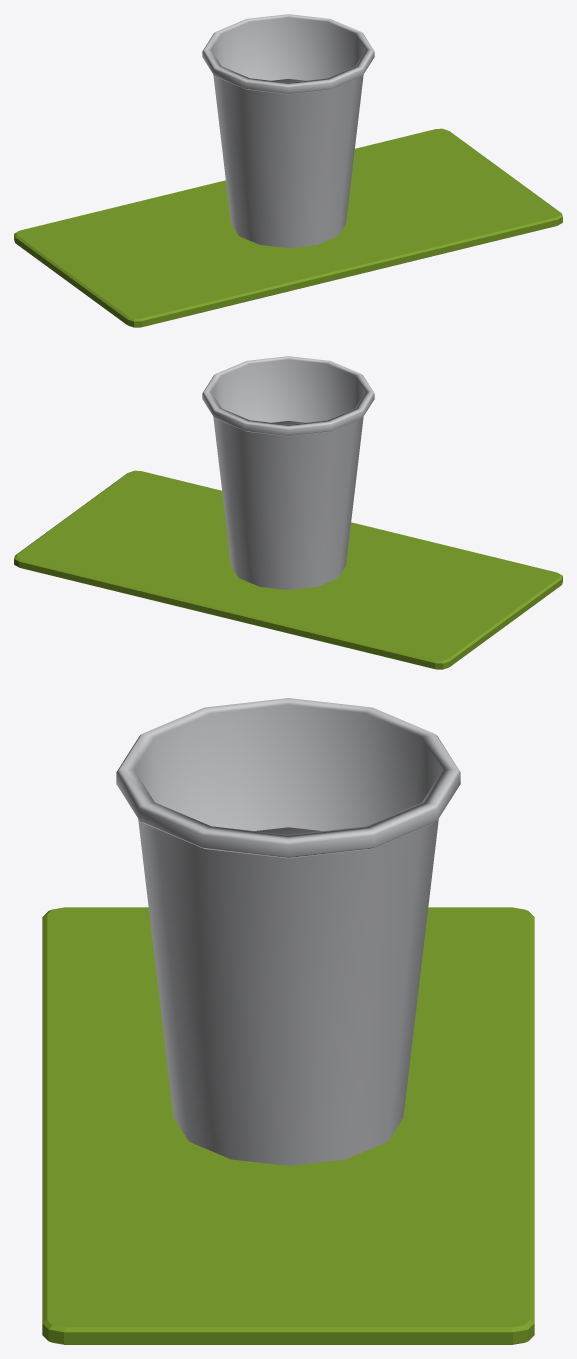
File: SM_InteractableObjects_BlockOut.fbx
3 views of the same model, one above another, from view 1: azimuth 30°, elevation 25°; view 2: azimuth 150°, elevation 25°; view 3: azimuth 270°, elevation 25° (orthographic). The views are drawn at different scales.
Visible parts, largest first — view 1: SM_Flyer, SM_Cup; view 2: SM_Flyer, SM_Cup; view 3: SM_Flyer, SM_Cup.
Part boxes in pixels (x1,y1,x2,y2): SM_Flyer: [14, 128, 562, 327]; SM_Cup: [202, 14, 374, 247]; SM_Flyer: [14, 470, 562, 669]; SM_Cup: [202, 356, 374, 589]; SM_Flyer: [42, 907, 534, 1344]; SM_Cup: [116, 698, 460, 1165].
Bounding box in the file's own units: 26.63 × 10.71 × 13.06.
